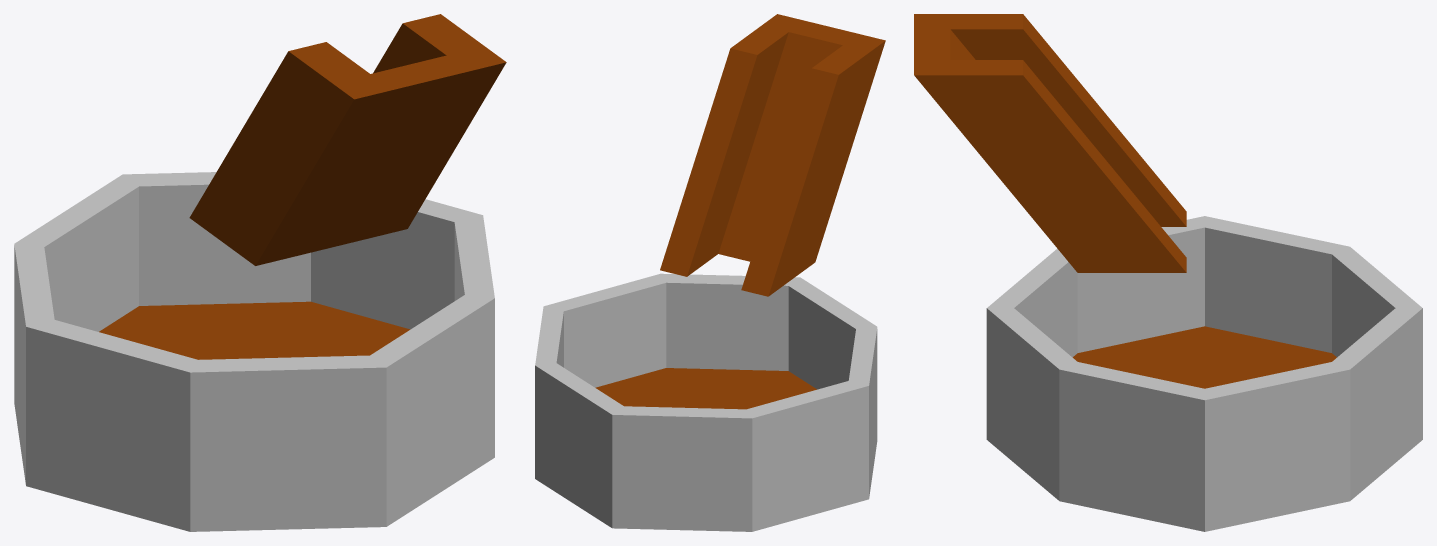
File: millbase.obj
3 views of the same model, side by side, from view 1: azimuth 30°, elevation 25°; view 2: azimuth 150°, elevation 25°; view 3: azimuth 270°, elevation 25° (orthographic). The views are drawn at different scales.
Parts seen in each view (by area): view 1: millbase_back; view 2: millbase_back; view 3: millbase_back.
Part boxes in pixels (x1,y1,x2,y2): millbase_back: (14, 14, 506, 531); millbase_back: (535, 14, 885, 531); millbase_back: (914, 14, 1422, 531).
Size of the model in its own units: 1.92 by 1.92 by 2.24.
